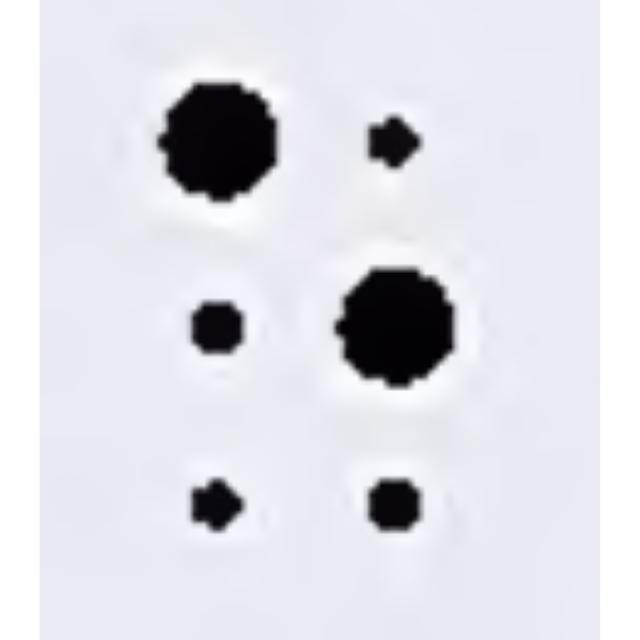letter_e: (155, 82, 456, 536)
